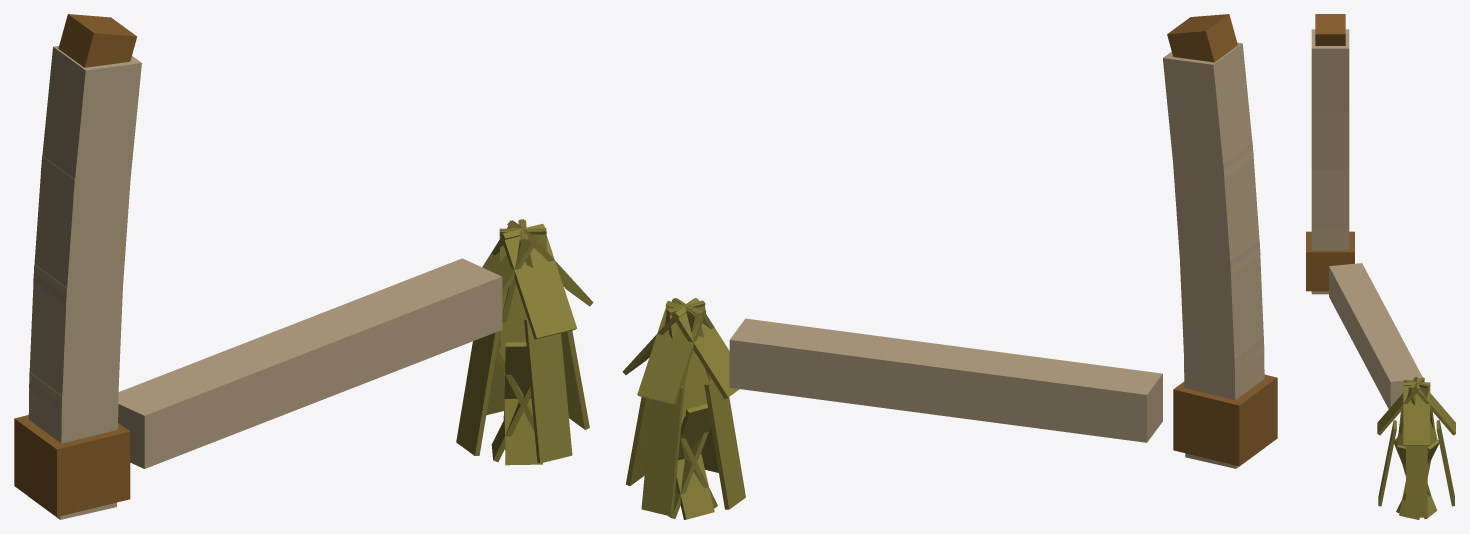
File: SM_Palmera_v4_LOD0.fbx
3 renders of one model, left to right at view 1: azimuth 30°, elevation 25°; view 2: azimuth 150°, elevation 25°; view 3: azimuth 270°, elevation 25°, orthographic. The views are drawn at different scales.
Visible parts, largest first — view 1: SM_urbano_v4_LOD0; view 2: SM_urbano_v4_LOD0; view 3: SM_urbano_v4_LOD0.
Boxes of the visible parts, x1=… form: SM_urbano_v4_LOD0: x1=14, y1=14, x2=593, y2=519; SM_urbano_v4_LOD0: x1=622, y1=14, x2=1277, y2=519; SM_urbano_v4_LOD0: x1=1306, y1=14, x2=1455, y2=519.
Bounding box in the file's own units: 7.68 × 7.23 × 2.78.
